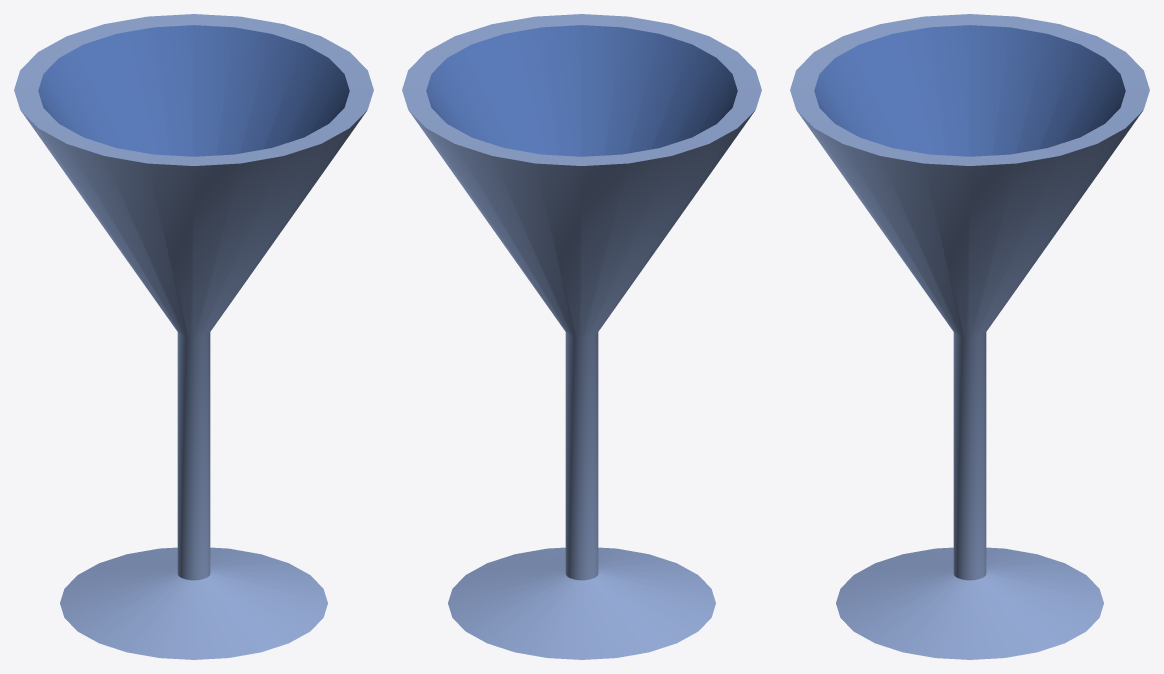
File: Wineglass C.fbx
3 views of the same model, side by side, from view 1: azimuth 30°, elevation 25°; view 2: azimuth 150°, elevation 25°; view 3: azimuth 270°, elevation 25° (orthographic).
Parts seen in each view (by area): view 1: Wineglass.001; view 2: Wineglass.001; view 3: Wineglass.001.
Boxes of the visible parts, box(x1,y1,x2,y2) form: Wineglass.001: box(14, 14, 373, 659); Wineglass.001: box(402, 14, 761, 659); Wineglass.001: box(790, 14, 1149, 659).
Size of the model in its own units: 0.2645 by 0.4161 by 0.2645.
